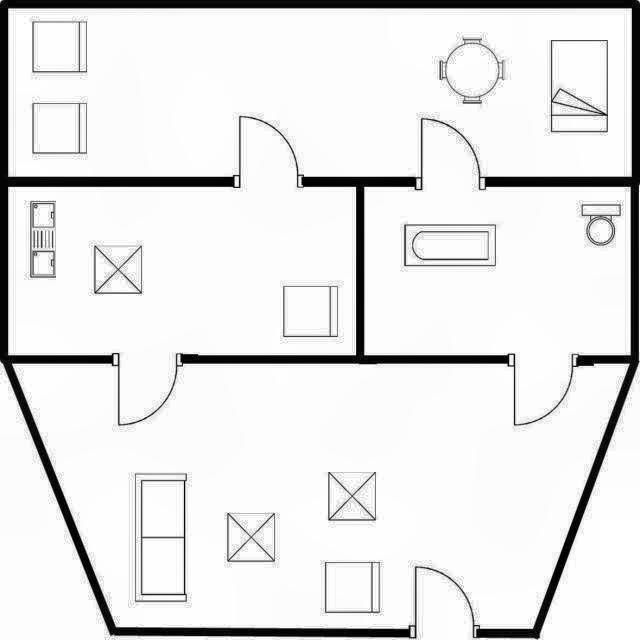room: (11, 363, 629, 629), (9, 8, 631, 176), (9, 187, 356, 355), (364, 187, 630, 354)
